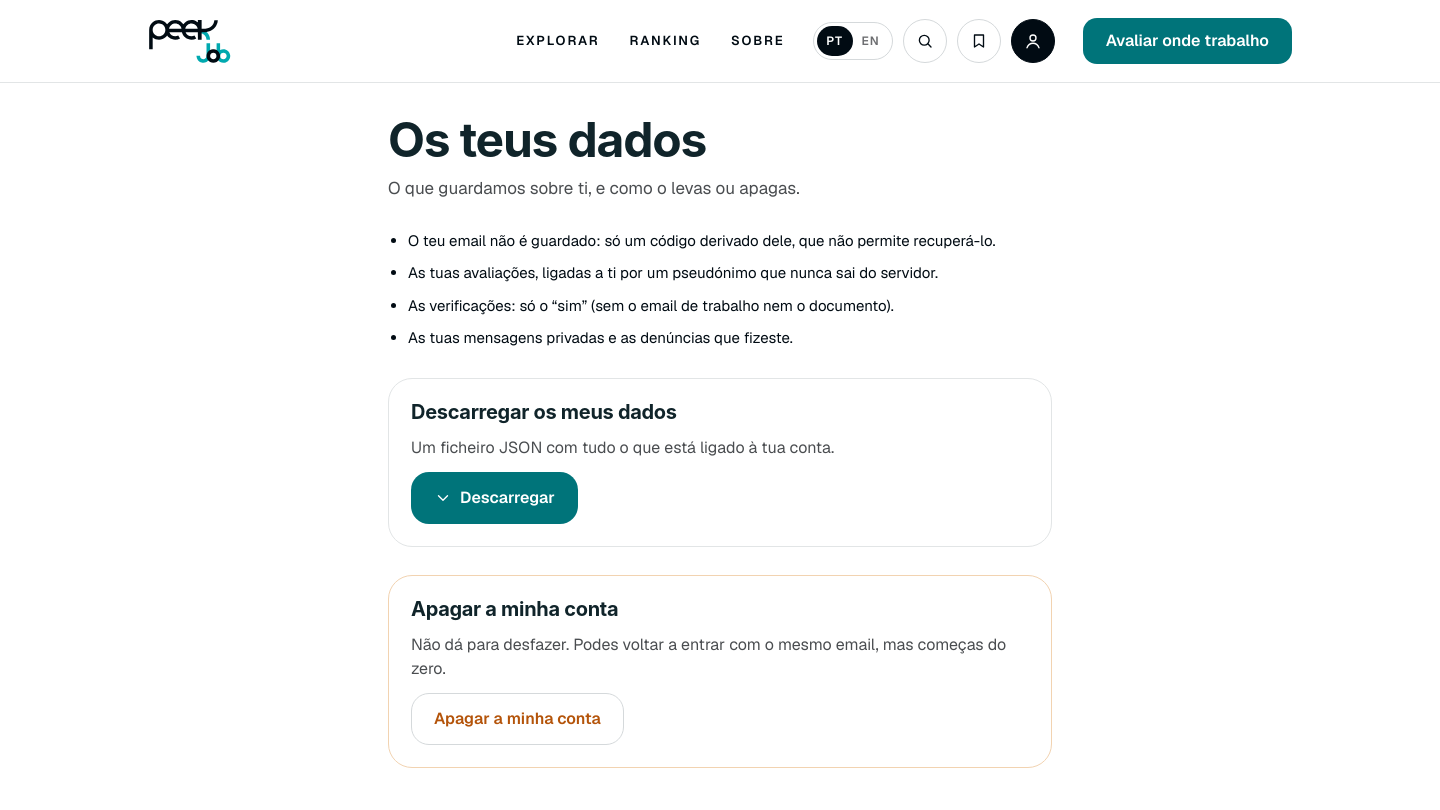
Test: Os teus dados, demonstração (desktop) › apagar pede confirmação; cancelar volta atrás
Step 1. Click the button "Apagar a minha conta" → (517, 719), box x1=411 y1=693 x2=624 y2=745
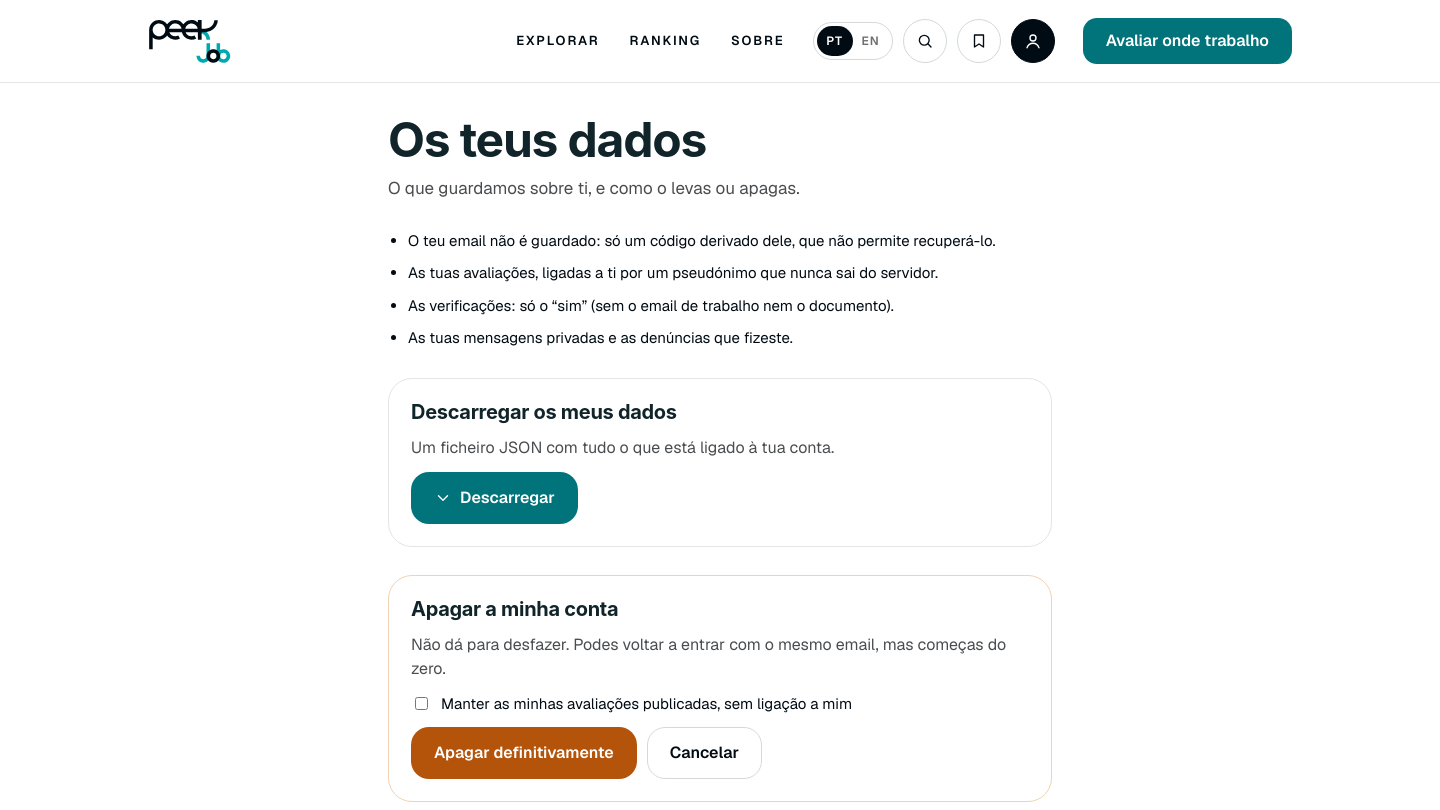
Expected: the checkbox labelled "Manter as minhas avaliações publicadas, sem ligação a mim" is not checked, x1=415 y1=697 x2=428 y2=710
Step 2. Click the button "Cancelar" → (704, 753), box x1=647 y1=727 x2=762 y2=779
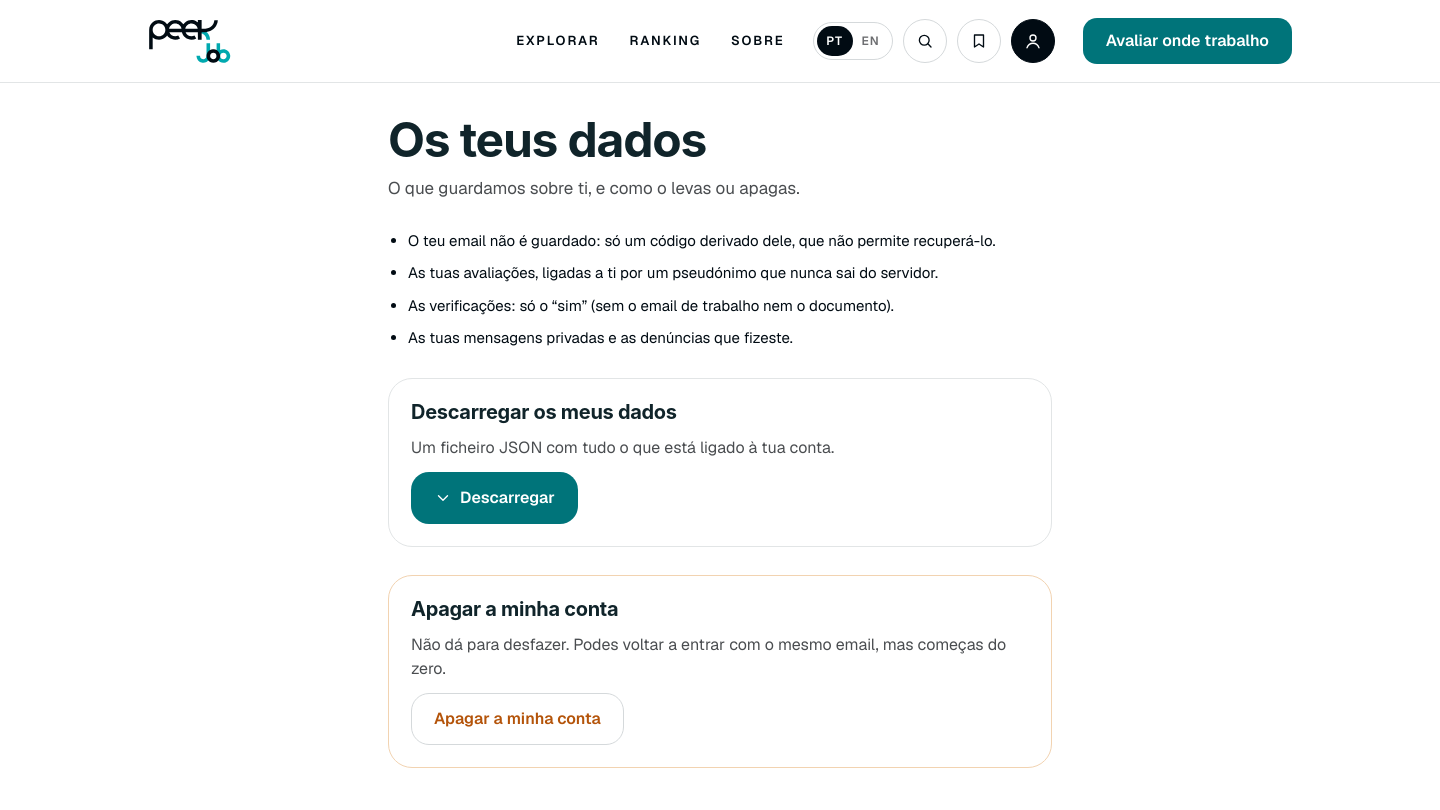
Expected: the checkbox is gone
